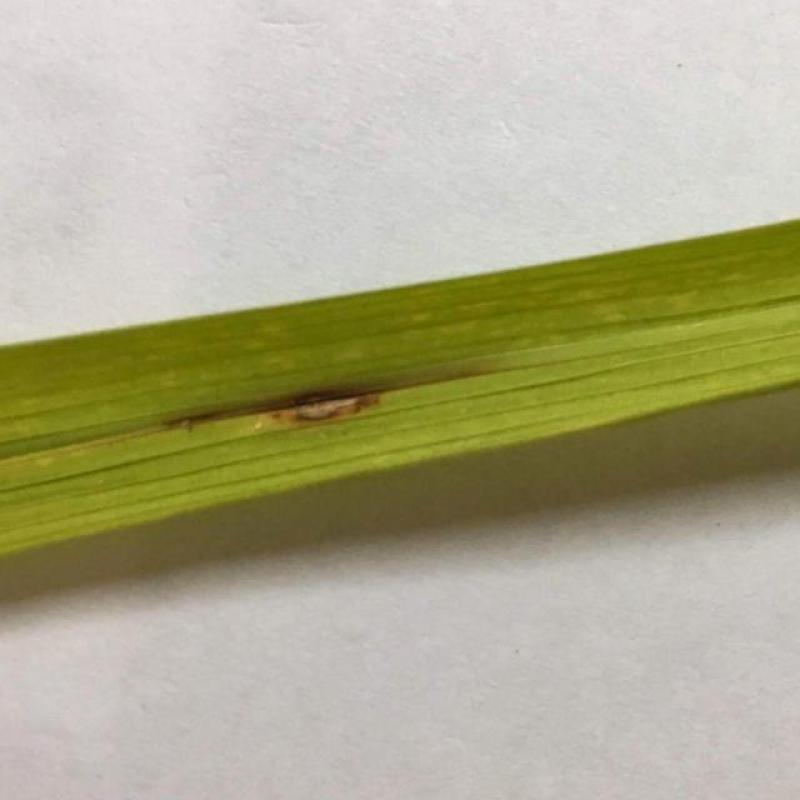Leaf_Blast: (170, 343, 454, 438)
